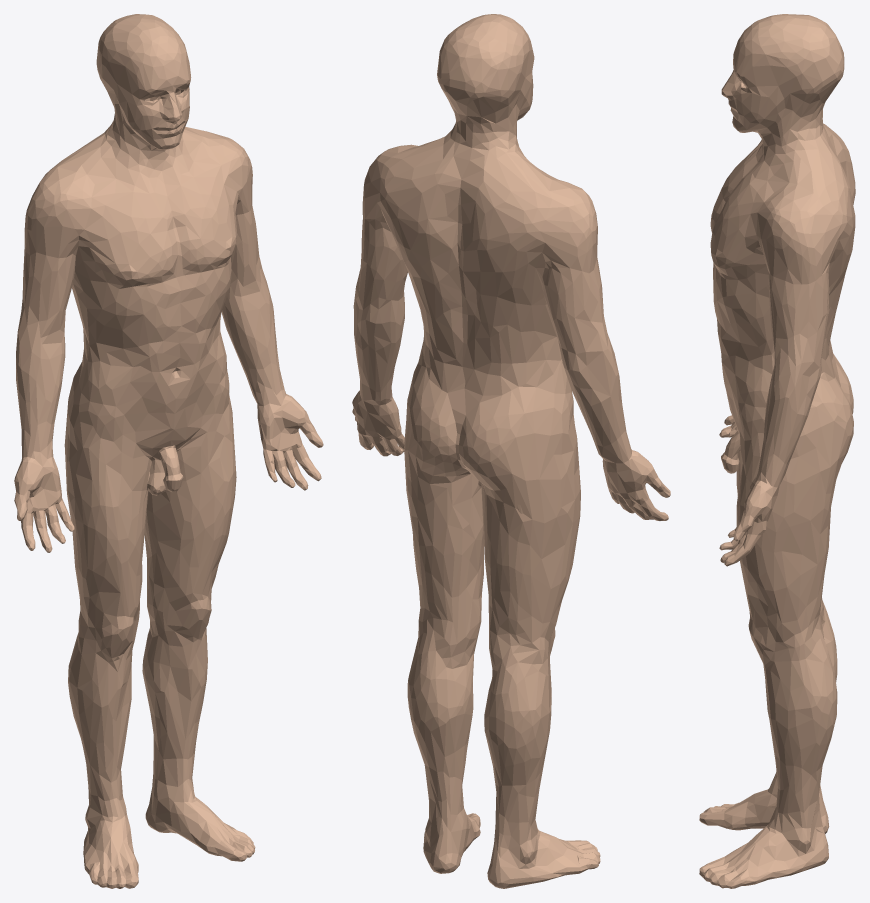
The model's file is endocrine.glb.
3 renders of one model, left to right at view 1: azimuth 30°, elevation 25°; view 2: azimuth 150°, elevation 25°; view 3: azimuth 270°, elevation 25°, orthographic. The views are drawn at different scales.
Parts seen in each view (by area): view 1: skin; view 2: skin; view 3: skin.
Boxes of the visible parts, bbox=[...] form: skin: bbox=[14, 14, 323, 888]; skin: bbox=[352, 14, 670, 888]; skin: bbox=[699, 14, 855, 888].
Size of the model in its own units: 0.6673 by 1.72 by 0.2918.
